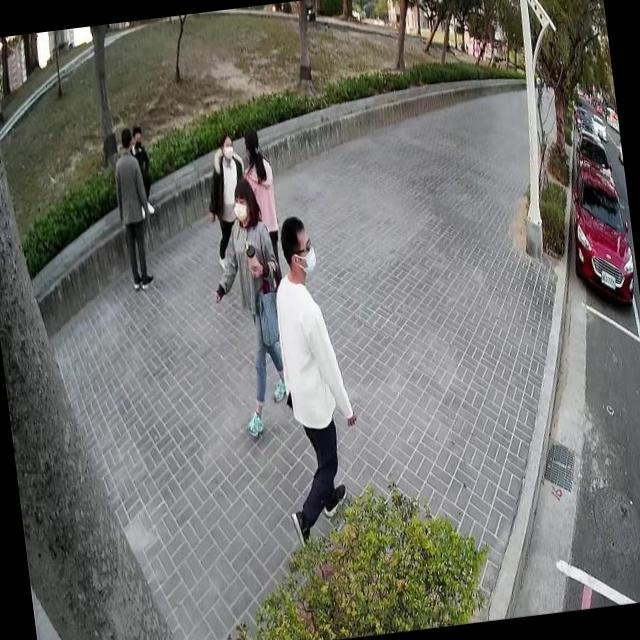person: (248, 198, 372, 553), (198, 168, 300, 443), (105, 120, 161, 294), (196, 122, 258, 270), (234, 120, 287, 289), (123, 122, 158, 222)
